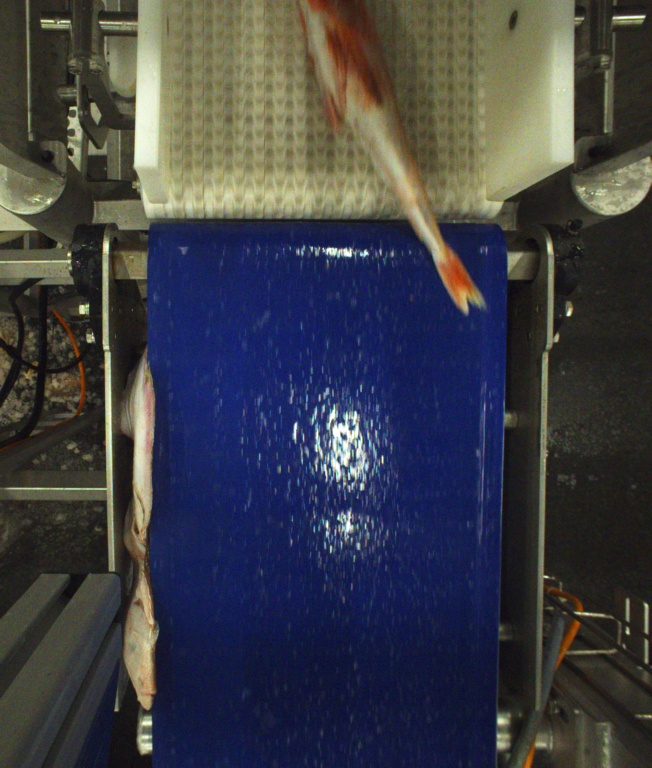GUU: (295, 0, 482, 317)
